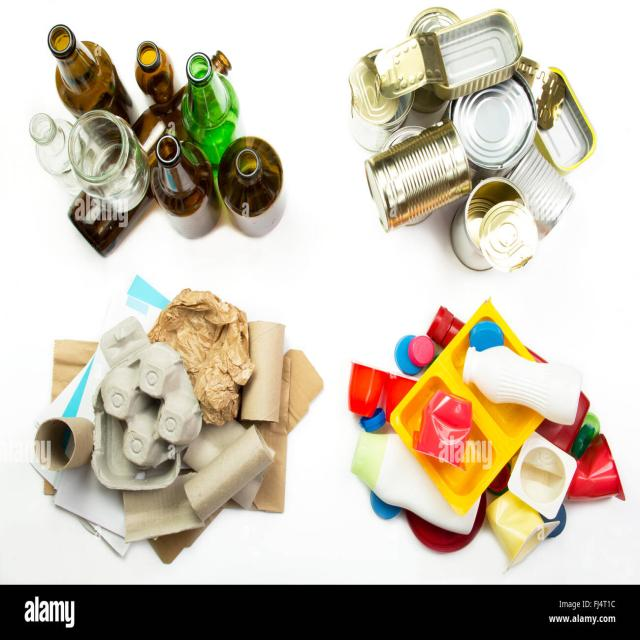cardboard: (46, 327, 294, 550)
glass: (33, 30, 291, 243)
metal: (375, 34, 564, 243)
plastic: (364, 329, 604, 548)
